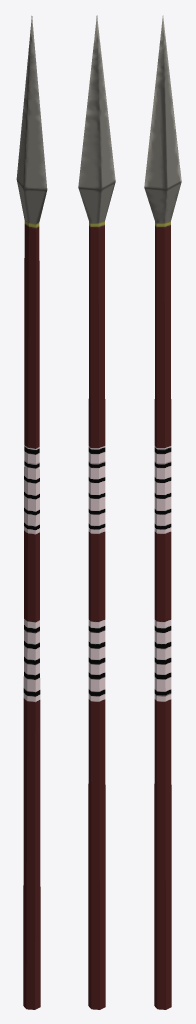
The model's file is Javelin.gltf.
3 views of the same model, side by side, from view 1: azimuth 90°, elevation 25°; view 2: azimuth 150°, elevation 25°; view 3: azimuth 330°, elevation 25° (orthographic).
Visible parts, largest first — view 1: Javelin; view 2: Javelin; view 3: Javelin.
Part boxes in pixels (x1,y1,x2,y2): Javelin: (16,16,47,1009); Javelin: (78,15,115,1009); Javelin: (144,15,181,1009).
Size of the model in its own units: 0.0464 by 1.99 by 0.0558.
Materials: 1 (1 with a texture image).
